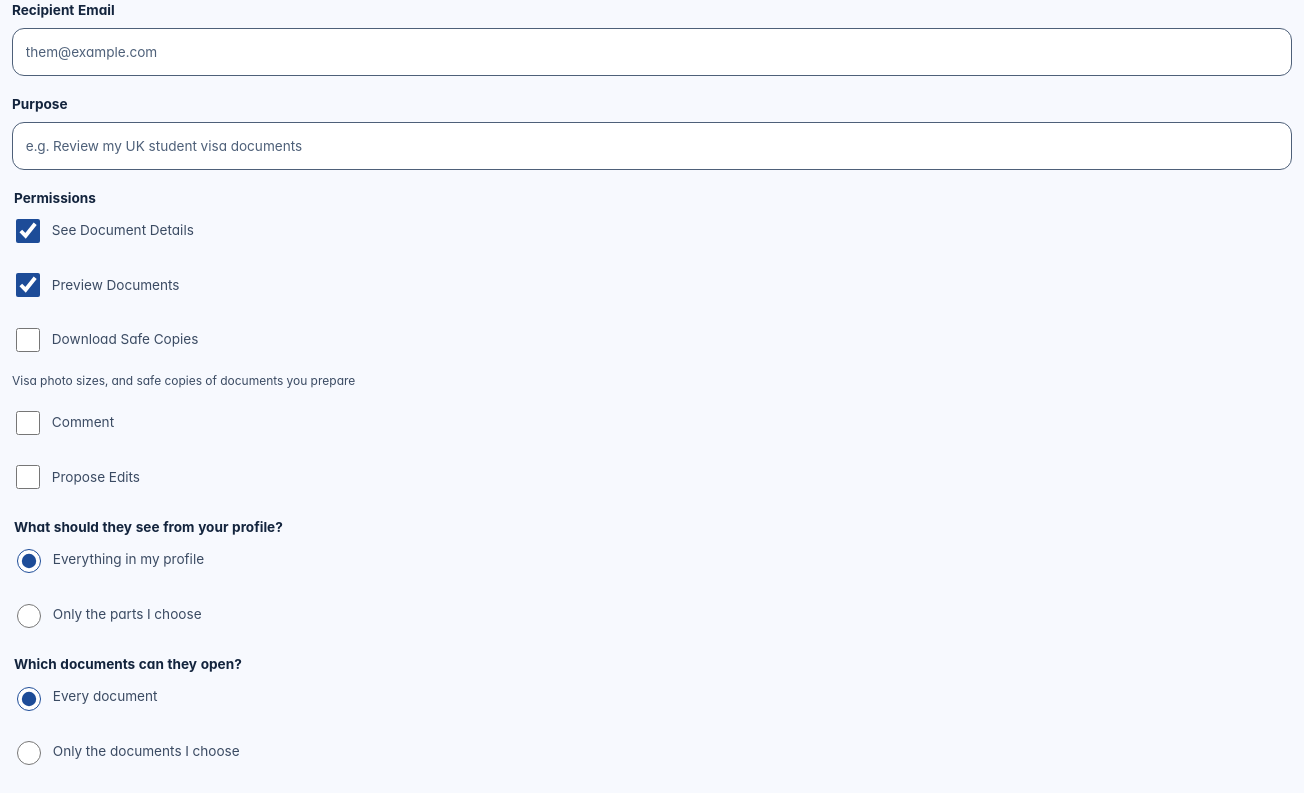
categories that hold saved details › warns that documents with no kind are left out when parts are chosen, and links to set them
What coordinates should you click on to do the following:
click the radio button labelled "Only the parts I choose"
I would click on:
 (29, 616)
Its box is left=17, top=604, right=41, bottom=628.
(page scrolled)
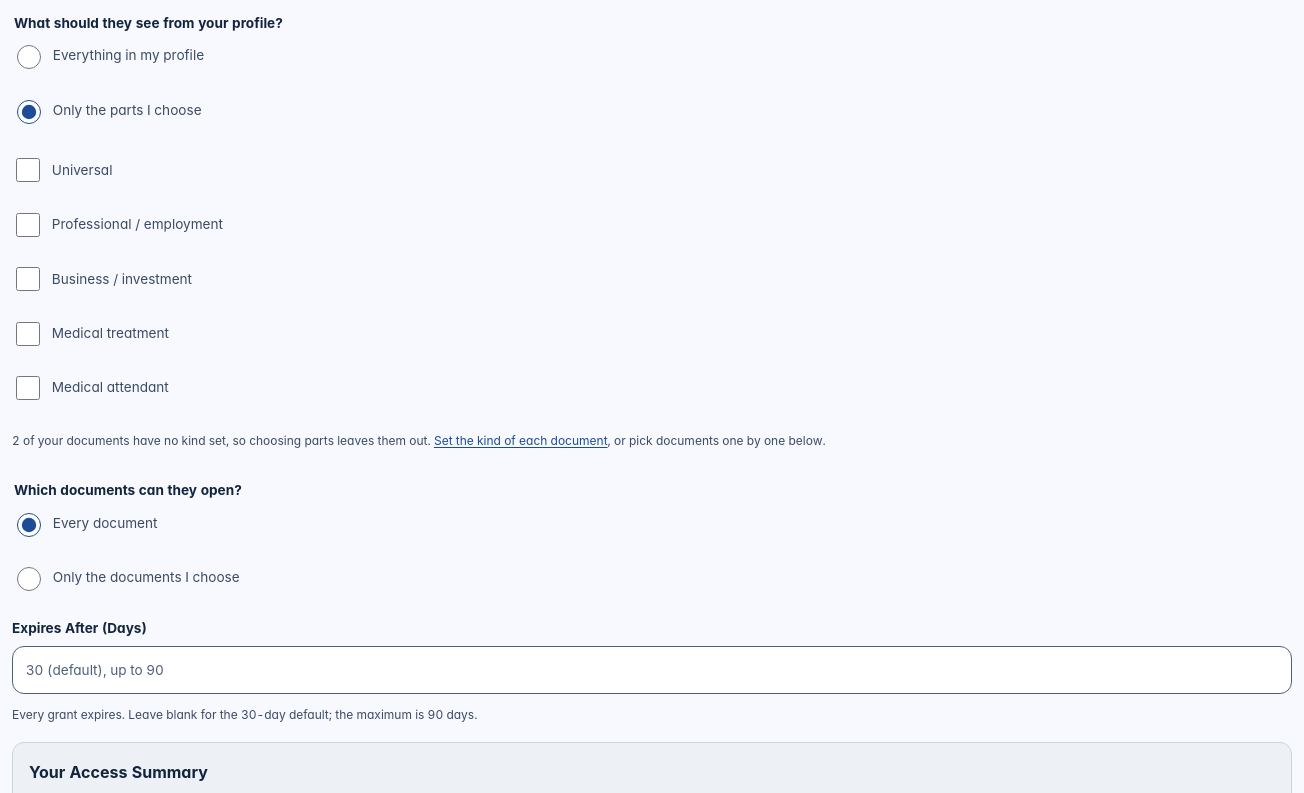
expect the element with test id "unsorted-documents-note" shows "2 of your documents have no kind set": met, box left=12, top=433, right=826, bottom=448
